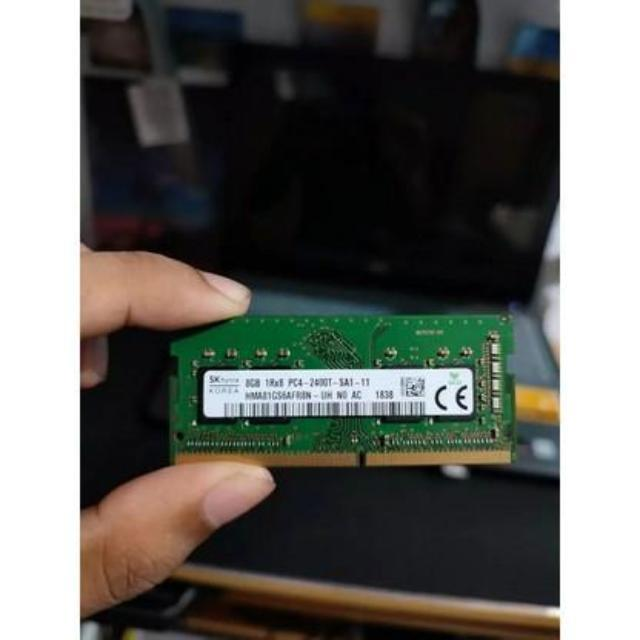RAM: (162, 302, 516, 473)
